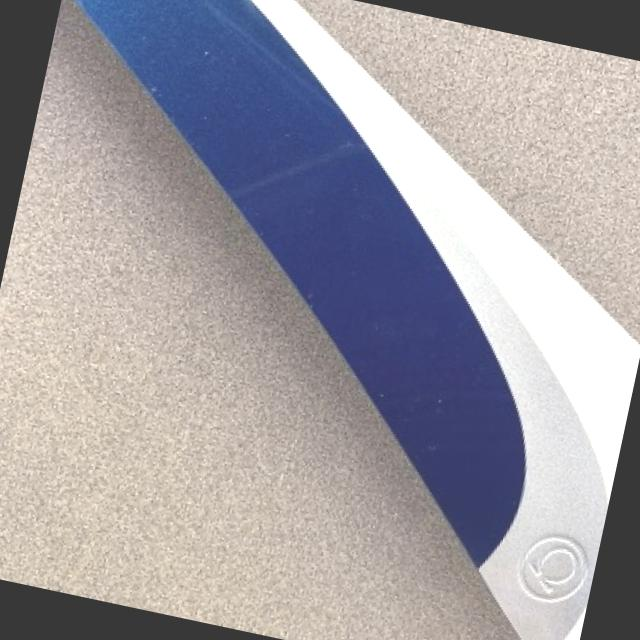healthy: (0, 0, 517, 640)
